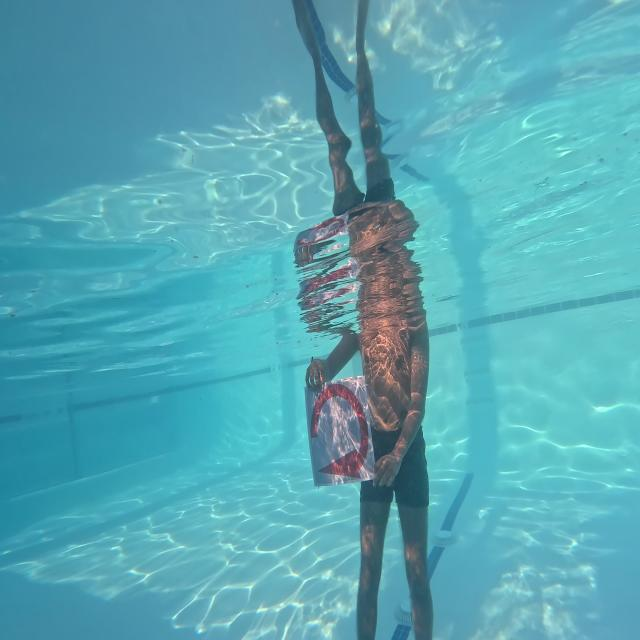red_side: (302, 378, 376, 488)
